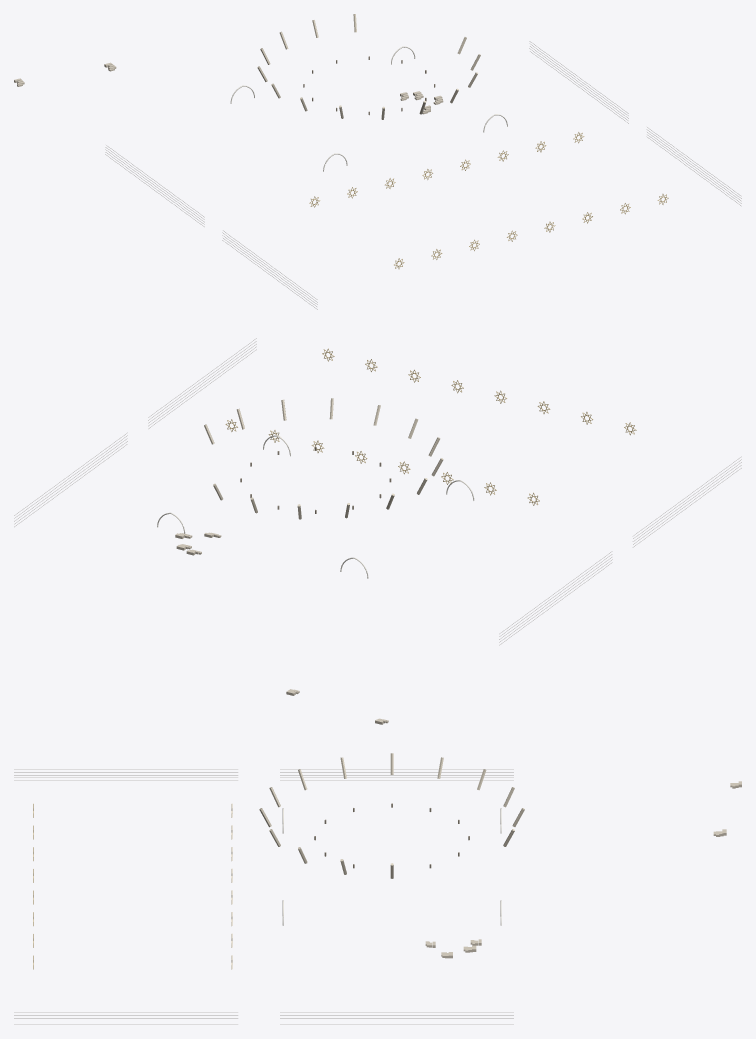
The model's file is 04_ornaments_ruins.glb.
The picture shows the model from 3 angles, top to bottom: view 1: azimuth 30°, elevation 25°; view 2: azimuth 150°, elevation 25°; view 3: azimuth 270°, elevation 25°; orthographic projection. The views are drawn at different scales.
Parts seen in each view (by area): view 1: batch_shadow, batch_gold, batch_ashlar; view 2: batch_shadow, batch_gold, batch_ashlar; view 3: batch_shadow, batch_ashlar, batch_debris.
Part boxes in pixels (x1=…): batch_shadow: x1=105, y1=41, x2=741, y2=309; batch_gold: x1=309, y1=132, x2=668, y2=269; batch_ashlar: x1=257, y1=14, x2=480, y2=119; batch_shadow: x1=14, y1=338, x2=741, y2=645; batch_gold: x1=225, y1=348, x2=636, y2=505; batch_ashlar: x1=204, y1=398, x2=443, y2=519; batch_shadow: x1=14, y1=769, x2=513, y2=1024; batch_ashlar: x1=259, y1=753, x2=524, y2=878; batch_debris: x1=425, y1=781, x2=741, y2=958.
Bounding box in the file's own units: 180 × 32.94 × 227.
